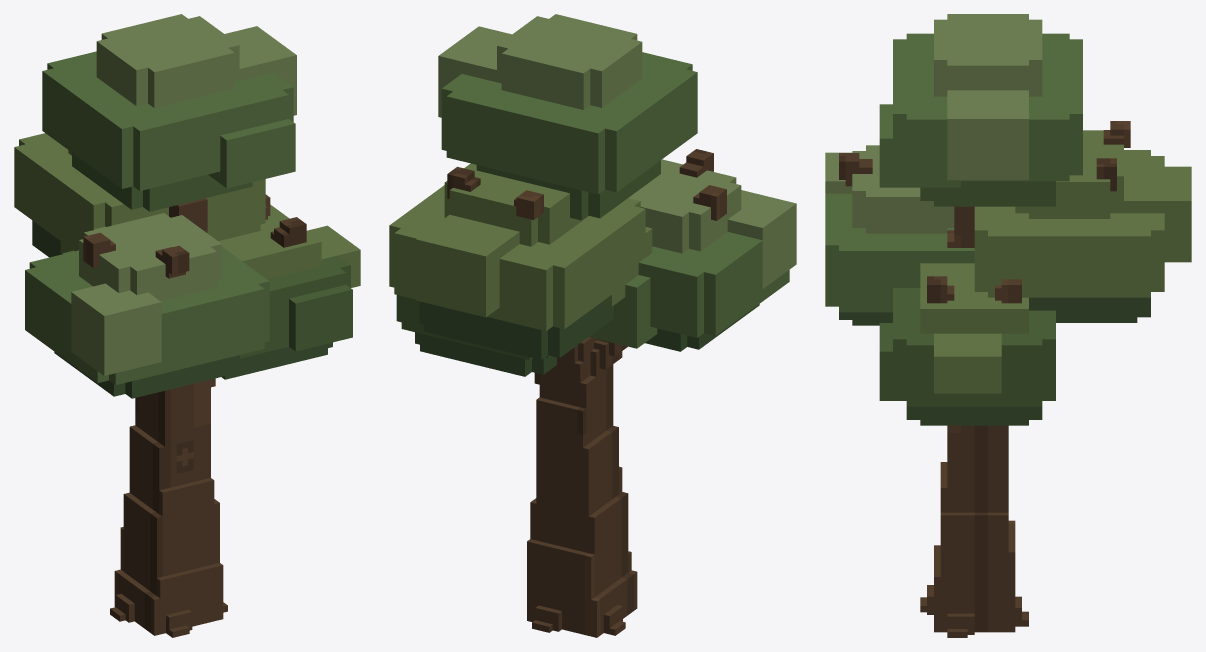
Rendered from apple_sapling_spring.glb.
3 views of the same model, side by side, from view 1: azimuth 30°, elevation 25°; view 2: azimuth 150°, elevation 25°; view 3: azimuth 270°, elevation 25° (orthographic). The views are drawn at different scales.
Visible parts, largest first — view 1: VoxelVisual; view 2: VoxelVisual; view 3: VoxelVisual.
Boxes of the visible parts, x1,y1,x2,y2 form: VoxelVisual: [14, 14, 360, 637]; VoxelVisual: [389, 14, 796, 637]; VoxelVisual: [825, 14, 1191, 637].
Size of what is drawn, in the model's own units: 3.38 by 5.88 by 3.38.
